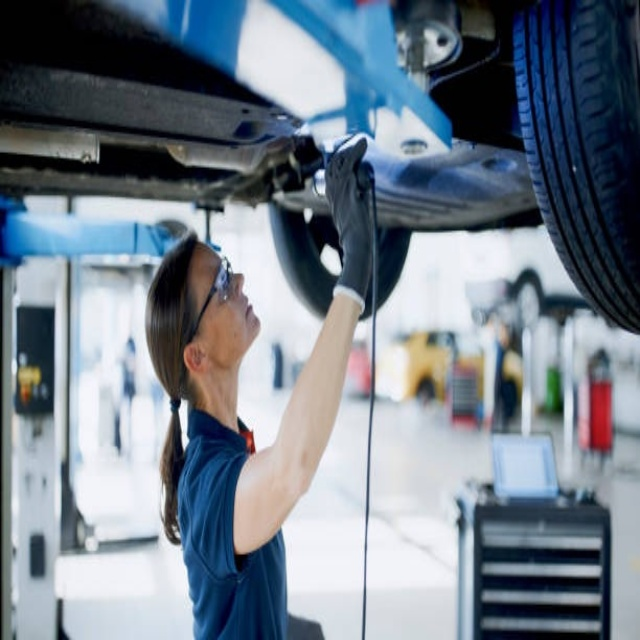Gafas: (187, 253, 233, 347)
Guantes: (324, 132, 376, 312)
Sin_mascara: (239, 279, 260, 337)
